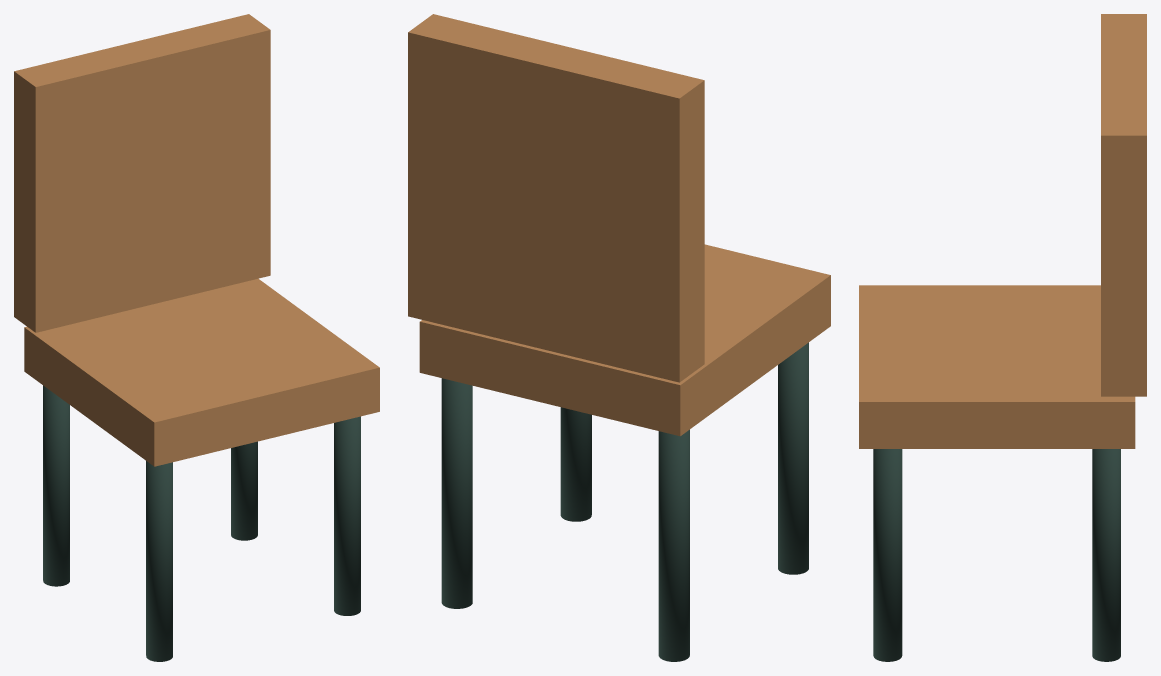
File: chair.glb
3 views of the same model, side by side, from view 1: azimuth 30°, elevation 25°; view 2: azimuth 150°, elevation 25°; view 3: azimuth 270°, elevation 25° (orthographic). The views are drawn at different scales.
Parts seen in each view (by area): view 1: Backrest, Seat, Chair leg, Chair leg.002, Chair leg.001, Chair leg.003; view 2: Backrest, Seat, Chair leg.001, Chair leg.003, Chair leg, Chair leg.002; view 3: Seat, Backrest, Chair leg.002, Chair leg.003.
Part boxes in pixels (box(x1,y1,x2,y2)): Backrest: box(14, 14, 270, 332); Seat: box(24, 278, 379, 466); Chair leg: box(146, 461, 172, 661); Chair leg.002: box(334, 416, 360, 615); Chair leg.001: box(43, 385, 69, 586); Chair leg.003: box(231, 441, 257, 540); Backrest: box(408, 14, 704, 382); Seat: box(419, 244, 830, 436); Chair leg.001: box(658, 429, 689, 661); Chair leg.003: box(441, 378, 472, 608); Chair leg: box(778, 342, 808, 574); Chair leg.002: box(560, 407, 591, 521); Seat: box(859, 285, 1135, 448); Backrest: box(1101, 14, 1146, 396); Chair leg.002: box(873, 449, 902, 661); Chair leg.003: box(1092, 449, 1120, 661).
Size of the model in its own units: 0.5 by 1.02 by 0.5.
